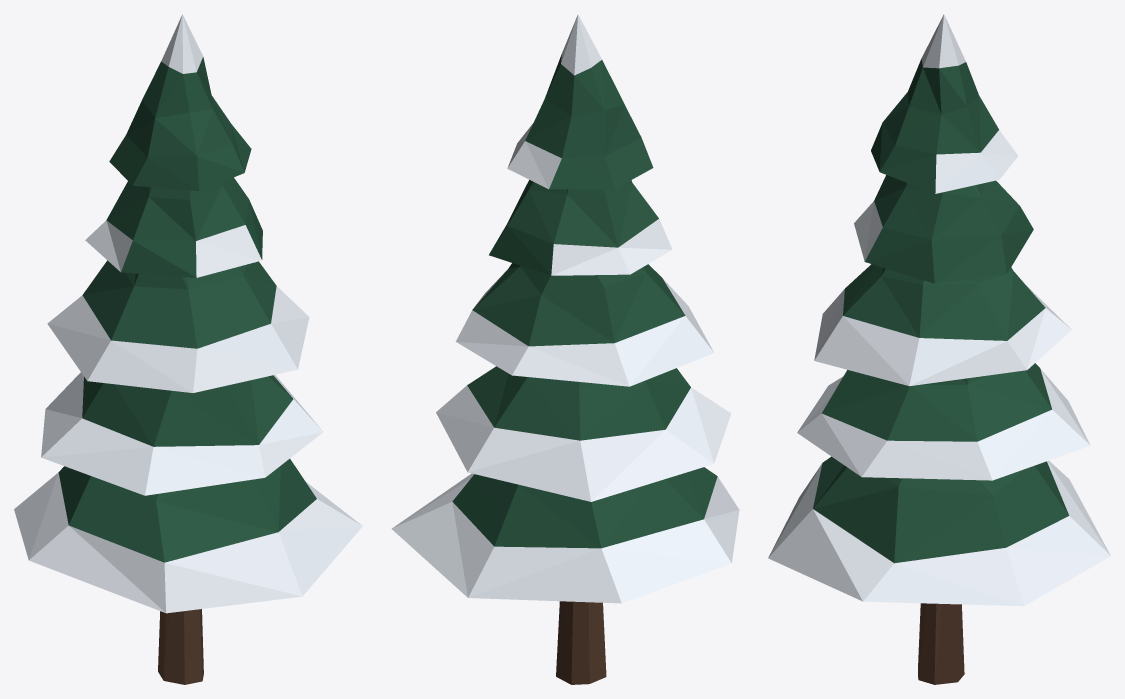
Rendered from pine_tall.glb.
3 renders of one model, left to right at view 1: azimuth 30°, elevation 25°; view 2: azimuth 150°, elevation 25°; view 3: azimuth 270°, elevation 25°, orthographic.
Visible parts, largest first — view 1: pine_tall; view 2: pine_tall; view 3: pine_tall.
Part boxes in pixels (x1,y1,x2,y2): pine_tall: [14, 14, 362, 684]; pine_tall: [391, 14, 739, 684]; pine_tall: [768, 14, 1110, 684].
Bounding box in the file's own units: 9.18 × 19.36 × 9.08.
1 material, 1 textured.
